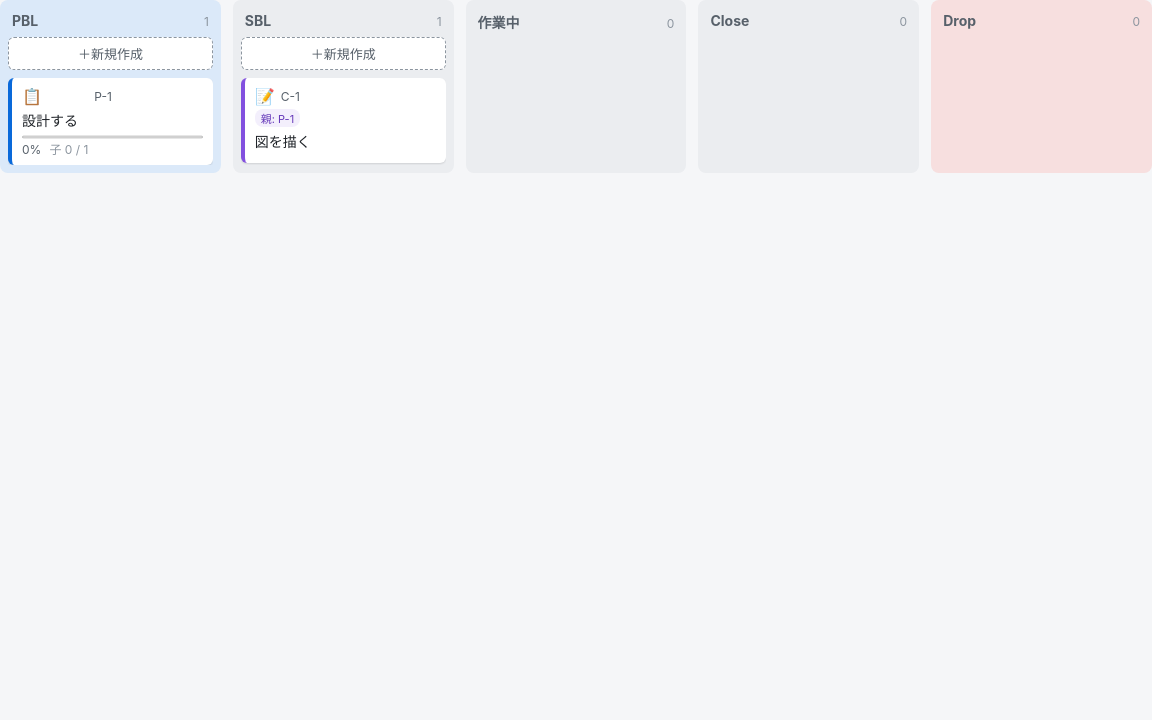
BoardView › 親にタイトルがない場合、子詳細の「親:」には親IDが表示される
Double-click the text "図を描く" at (283, 142), box [255,133,311,150]
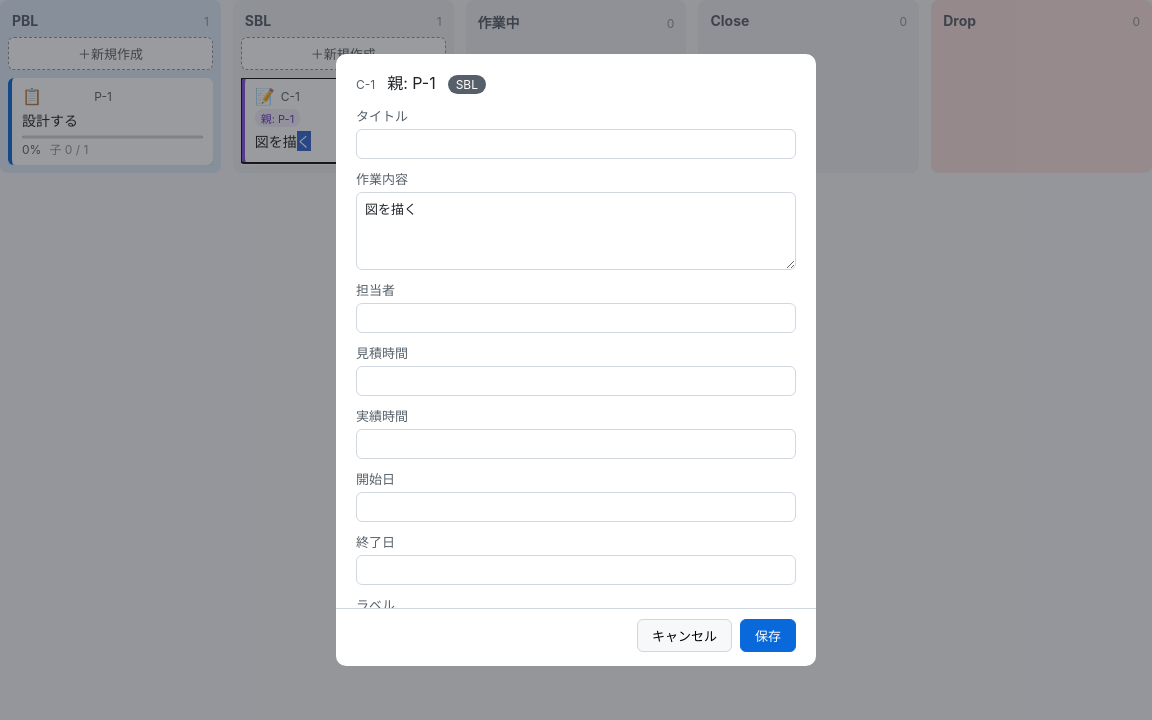
expect the text "親: P-1" is shown: met, box [387,70,436,94]
